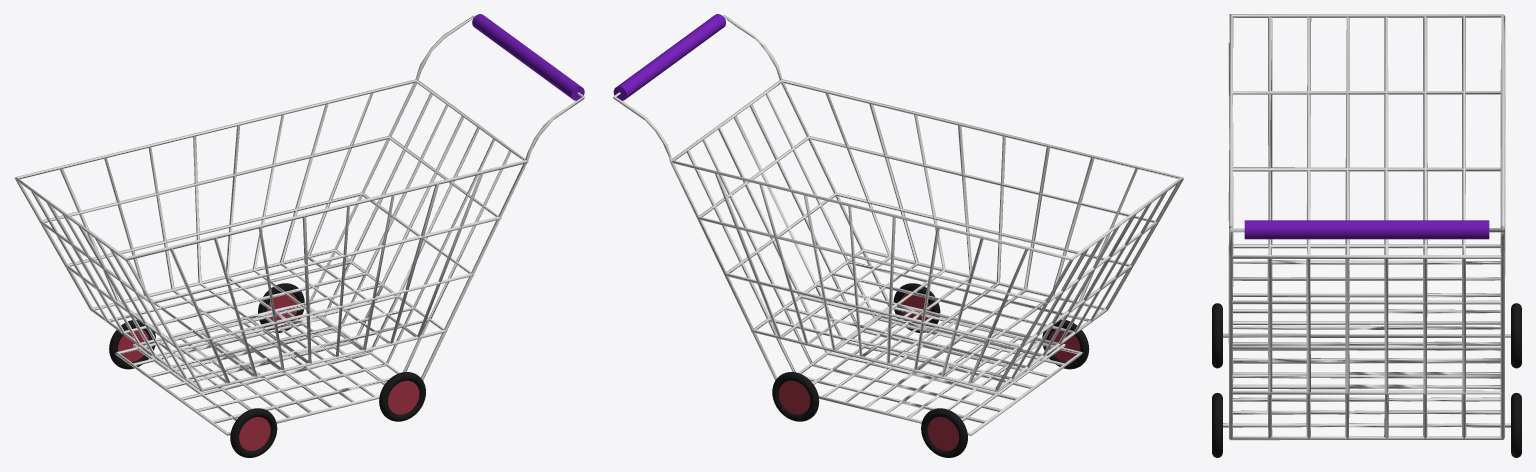
The model's file is cart2.fbx.
3 views of the same model, side by side, from view 1: azimuth 30°, elevation 25°; view 2: azimuth 150°, elevation 25°; view 3: azimuth 270°, elevation 25° (orthographic). The views are drawn at different scales.
Visible parts, largest first — view 1: Cart, Cylinder, Torus, Torus.001, Torus.003, Torus.002; view 2: Cart, Cylinder, Torus.002, Torus.003, Torus, Torus.001; view 3: Cart, Cylinder, Torus, Torus.003, Torus.001, Torus.002.
Part boxes in pixels (bbox=[...]): Cart: bbox=[14, 15, 584, 435]; Cylinder: bbox=[472, 14, 584, 100]; Torus: bbox=[230, 408, 277, 457]; Torus.001: bbox=[379, 372, 425, 421]; Torus.003: bbox=[109, 319, 155, 369]; Torus.002: bbox=[258, 283, 304, 332]; Cart: bbox=[613, 15, 1183, 435]; Cylinder: bbox=[613, 14, 725, 100]; Torus.002: bbox=[772, 372, 819, 421]; Torus.003: bbox=[921, 408, 967, 457]; Torus: bbox=[1042, 319, 1089, 369]; Torus.001: bbox=[893, 283, 940, 332]; Cart: bbox=[1223, 14, 1510, 440]; Cylinder: bbox=[1244, 220, 1489, 239]; Torus: bbox=[1212, 303, 1222, 368]; Torus.003: bbox=[1511, 303, 1521, 368]; Torus.001: bbox=[1212, 393, 1222, 457]; Torus.002: bbox=[1511, 393, 1521, 457].
Size of the model in its own units: 488 by 281 by 228.
